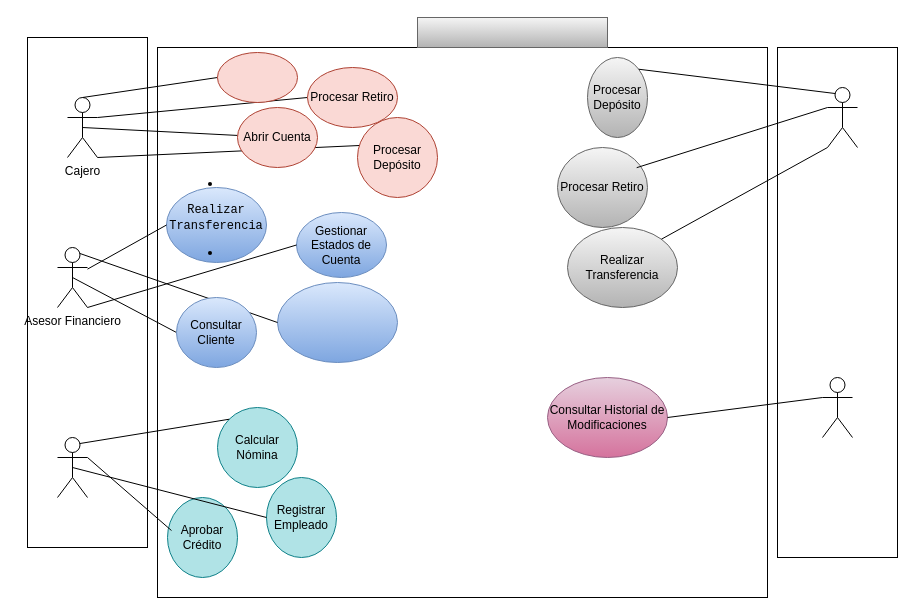
Image size: 915x615. Some labels were removed from this diagram. Here are the shapes that lost their labels. From the top down, the box of each, then its label:
(416, 16, 608, 48): Sistema Bancario
(216, 52, 298, 102): Registrar Cliente
(826, 86, 858, 148): Cliente
(276, 282, 398, 362): Bloquear/Desbloquear Cuenta
(822, 376, 852, 438): Sistema Auditor
(56, 436, 88, 498): Gerente de Sucursal
